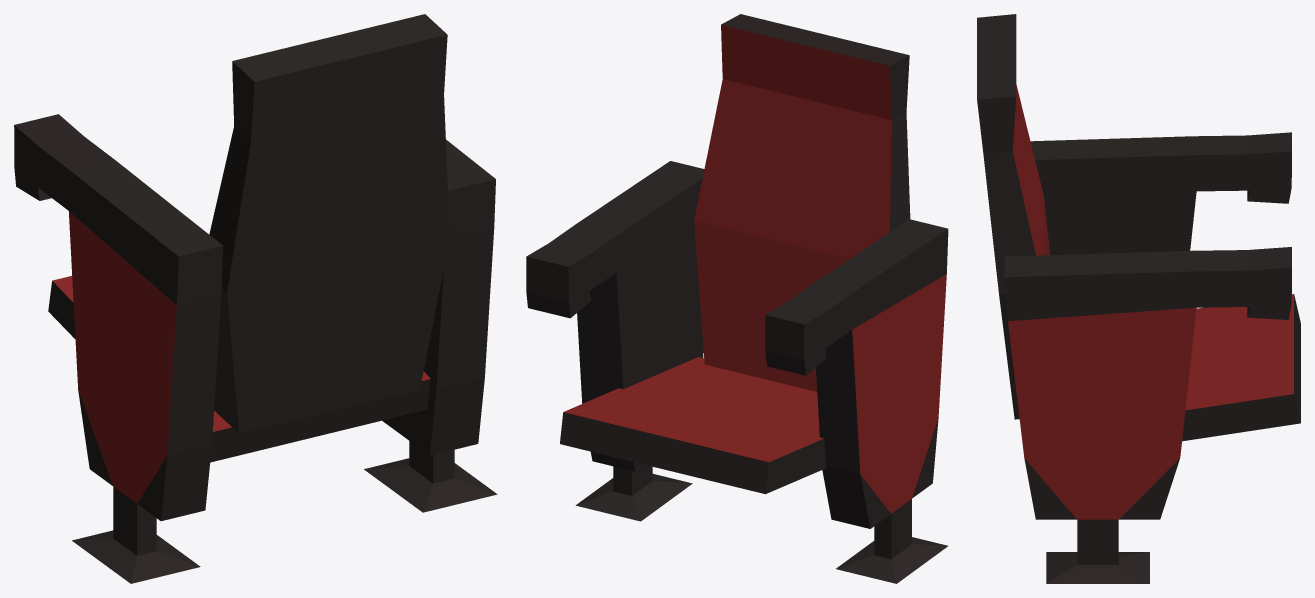
Rendered from chair.obj.
3 renders of one model, left to right at view 1: azimuth 30°, elevation 25°; view 2: azimuth 150°, elevation 25°; view 3: azimuth 270°, elevation 25°, orthographic. The views are drawn at different scales.
Parts seen in each view (by area): view 1: Cube_Cube_Material, Cube_Cube_Material.001; view 2: Cube_Cube_Material.001, Cube_Cube_Material; view 3: Cube_Cube_Material, Cube_Cube_Material.001.
Boxes of the visible parts, x1=… form: Cube_Cube_Material: x1=14, y1=14, x2=497, y2=583; Cube_Cube_Material.001: x1=52, y1=211, x2=430, y2=503; Cube_Cube_Material.001: x1=563, y1=24, x2=946, y2=513; Cube_Cube_Material: x1=526, y1=14, x2=948, y2=583; Cube_Cube_Material: x1=977, y1=14, x2=1300, y2=583; Cube_Cube_Material.001: x1=1008, y1=84, x2=1293, y2=519.
Bounding box in the file's own units: 0.9736 × 1.31 × 0.8526.
